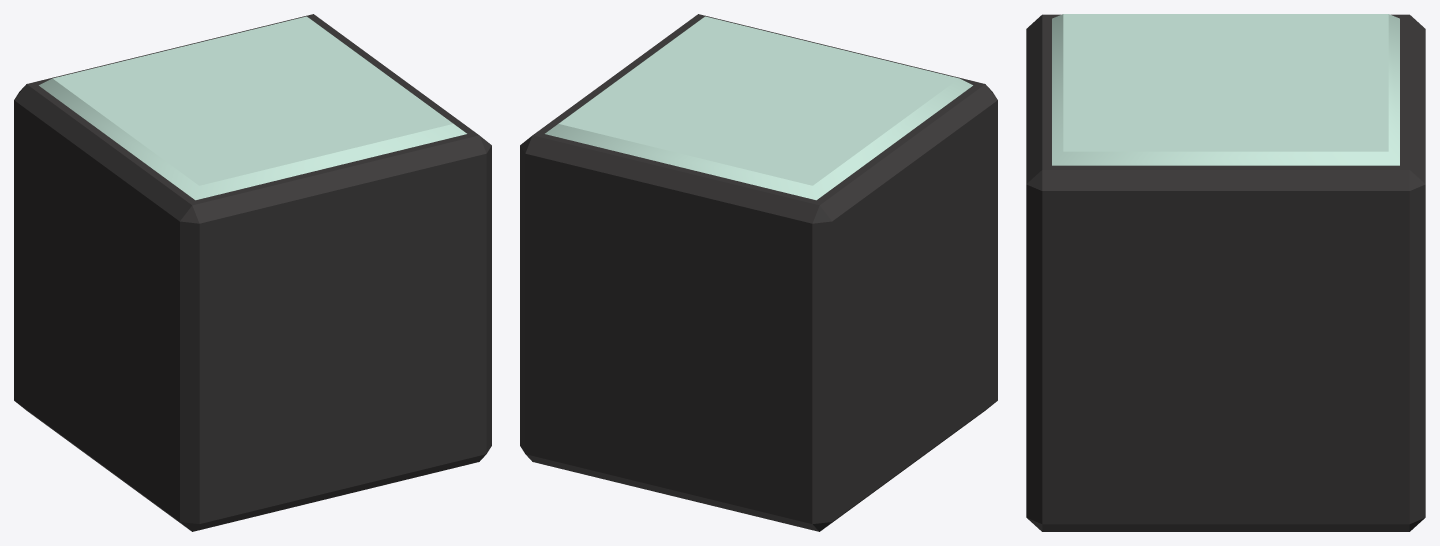
The model's file is winter-cube-large-v2.glb.
The picture shows the model from 3 angles, left to right: view 1: azimuth 30°, elevation 25°; view 2: azimuth 150°, elevation 25°; view 3: azimuth 270°, elevation 25°; orthographic projection. The views are drawn at different scales.
Visible parts, largest first — view 1: WinterCubeLarge_v2; view 2: WinterCubeLarge_v2; view 3: WinterCubeLarge_v2.
Boxes of the visible parts, x1,y1,x2,y2 form: WinterCubeLarge_v2: (14,14,491,531); WinterCubeLarge_v2: (520,14,997,531); WinterCubeLarge_v2: (1026,14,1425,531).
Size of the model in its own units: 200 by 205 by 200.
1 material, 1 textured.
